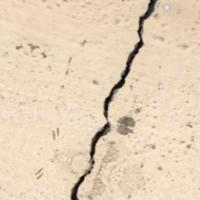crack: (70, 0, 157, 199)
